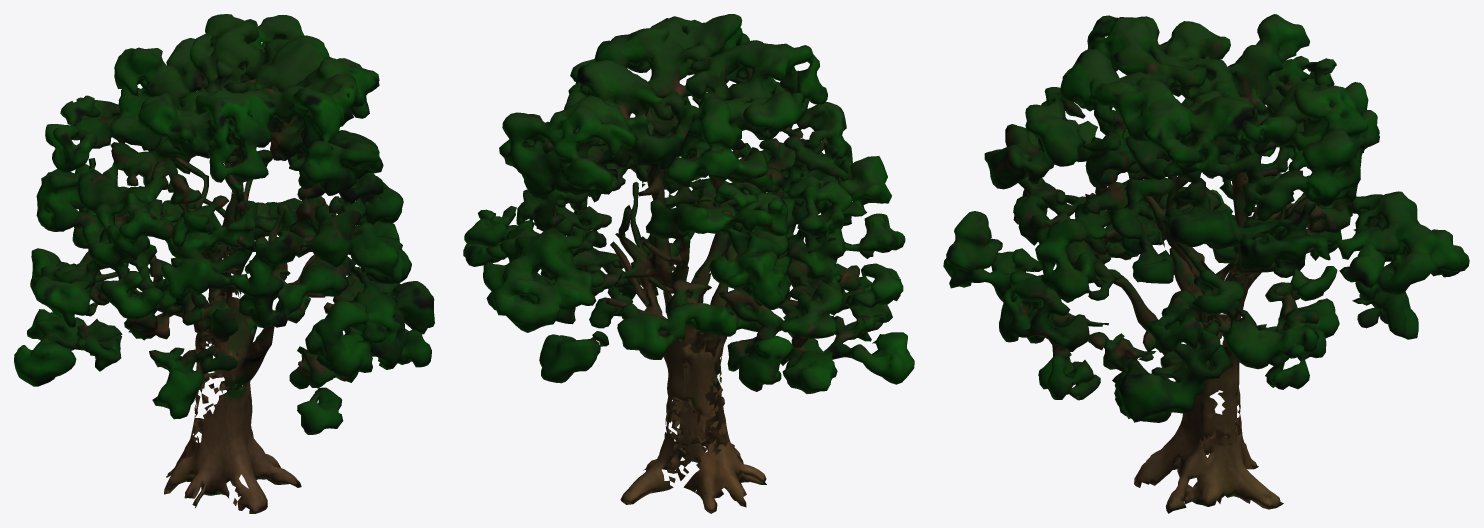
File: tree.glb
The picture shows the model from 3 angles, left to right: view 1: azimuth 30°, elevation 25°; view 2: azimuth 150°, elevation 25°; view 3: azimuth 270°, elevation 25°; orthographic projection. The views are drawn at different scales.
Size of the model in its own units: 1.84 by 1.87 by 1.99.
1 material, 1 textured.
